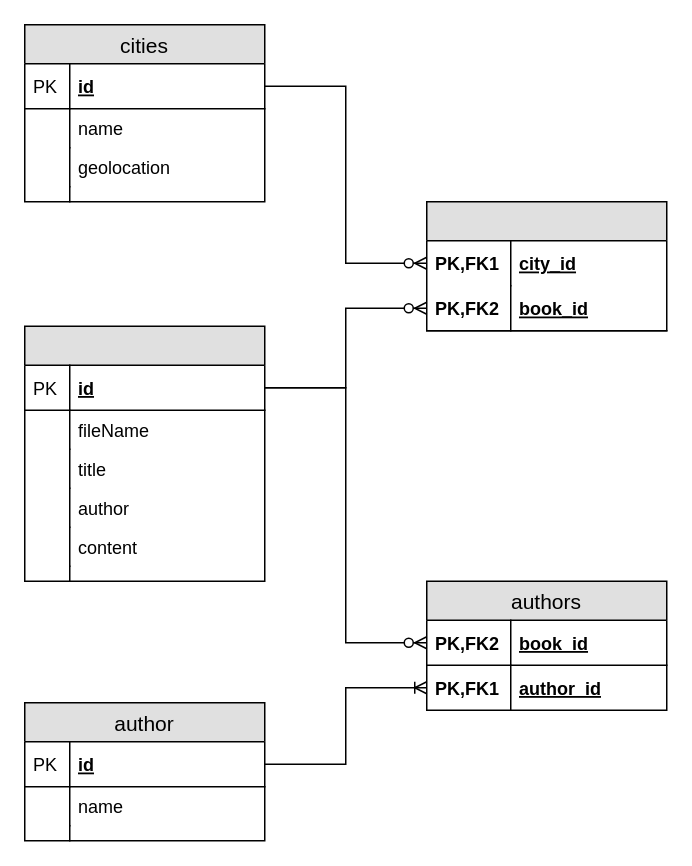
The diagram is 692 pixels wide and 866 high, and some of its shapes have lost their labels. Each missing label, with the box of its shape:
books: (23, 325, 265, 581)
city_mentions: (425, 200, 667, 331)
